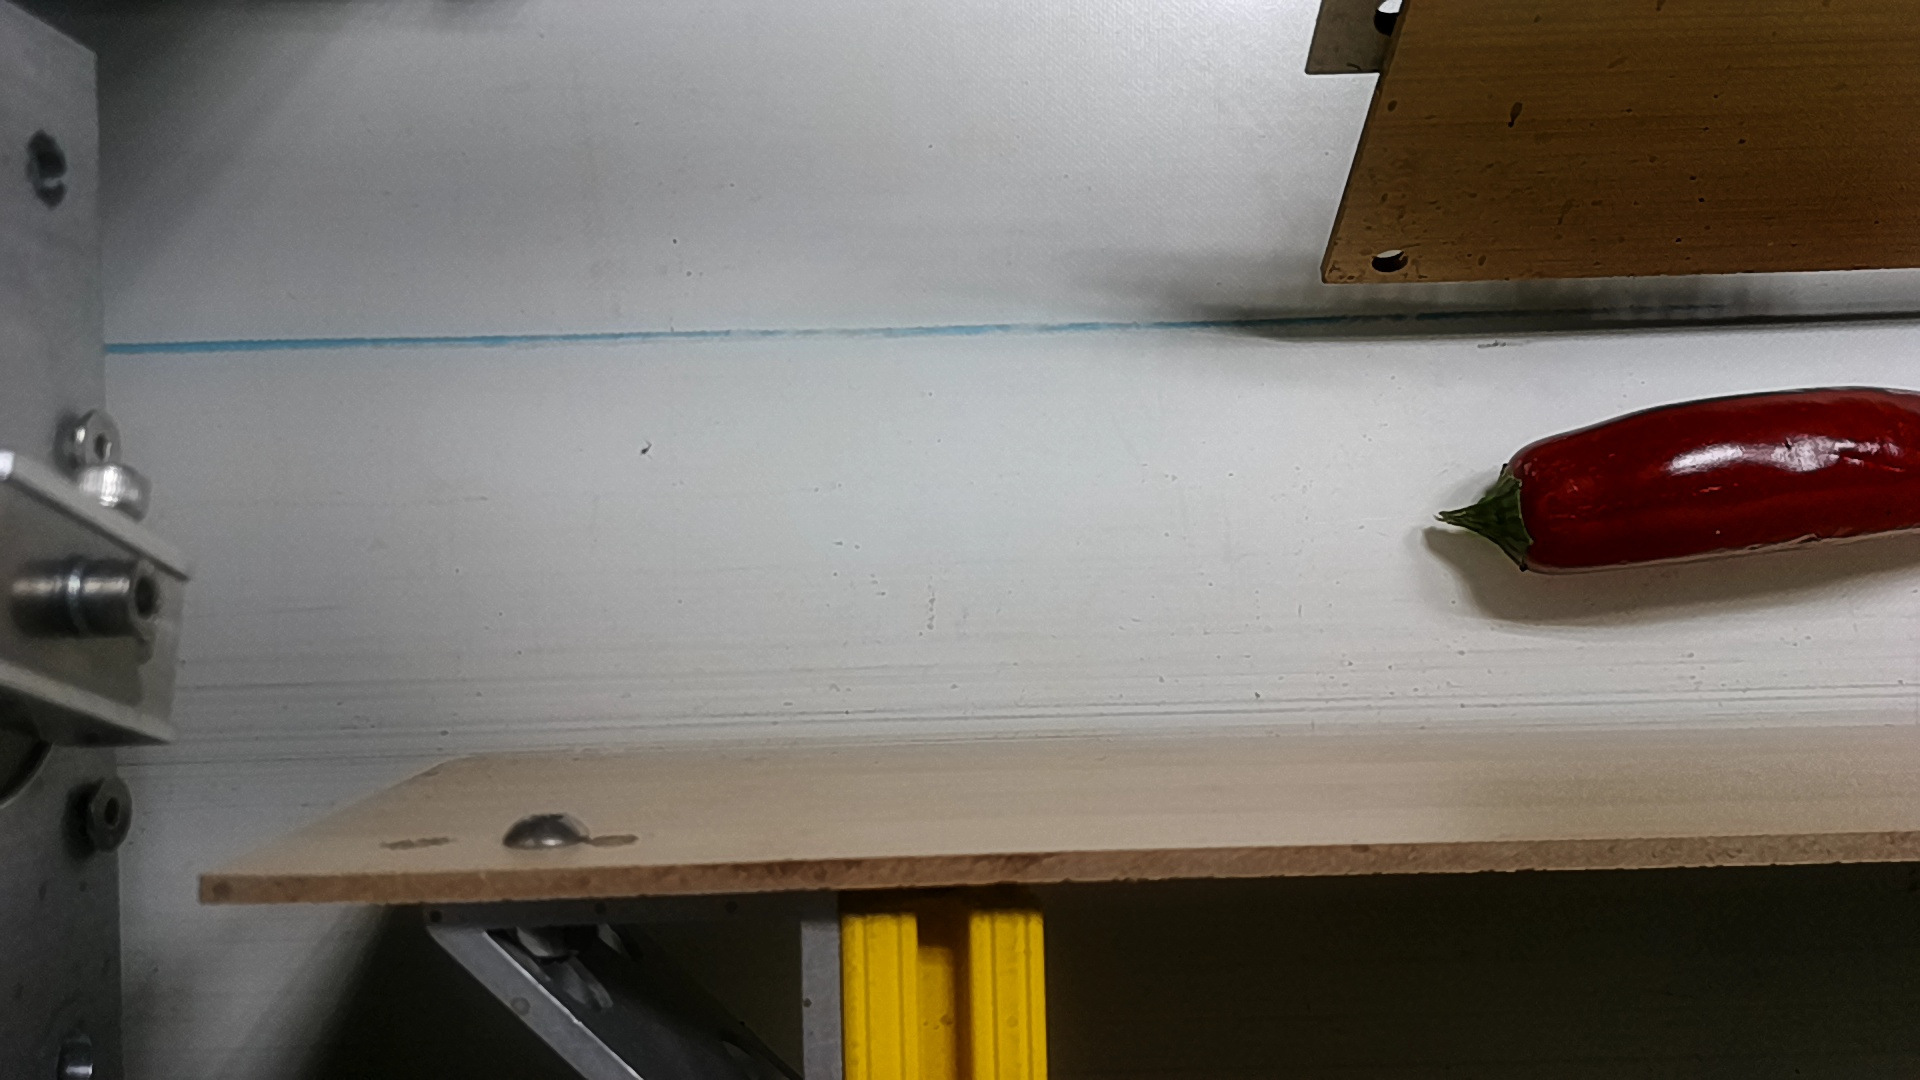Cut Point: (1470, 436, 1582, 578)
